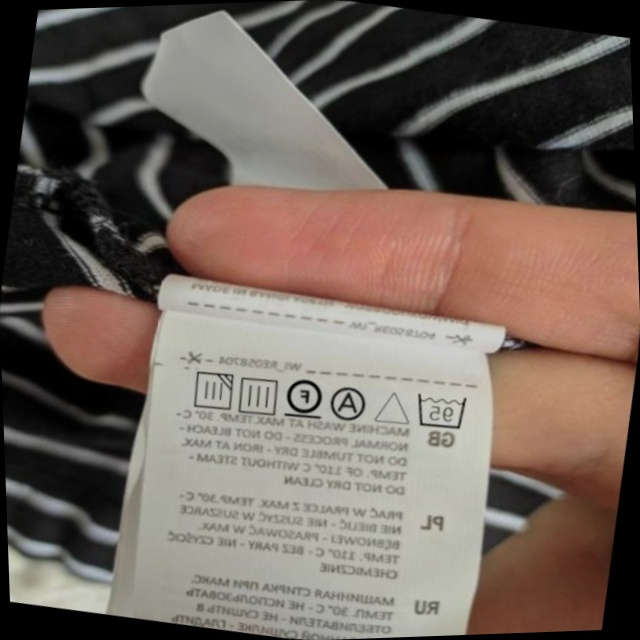95C: (409, 385, 472, 435)
bleach: (372, 383, 415, 431)
drip_dry: (232, 370, 284, 420)
drip_dry_in_shade: (184, 365, 238, 417)
dry_clean: (327, 381, 372, 425)
dry_clean_petrol_only: (280, 370, 328, 423)
